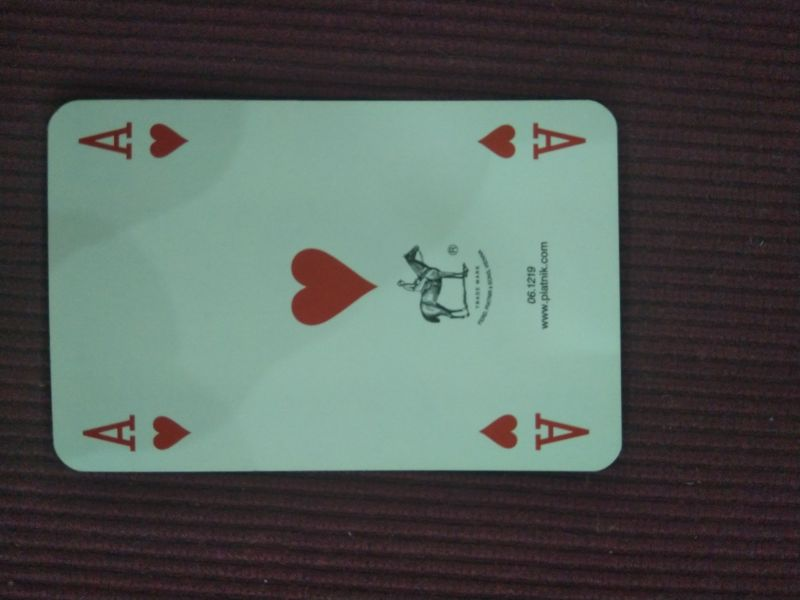Ah: (73, 114, 195, 167), (476, 406, 595, 456), (472, 116, 591, 163), (78, 411, 197, 455)
